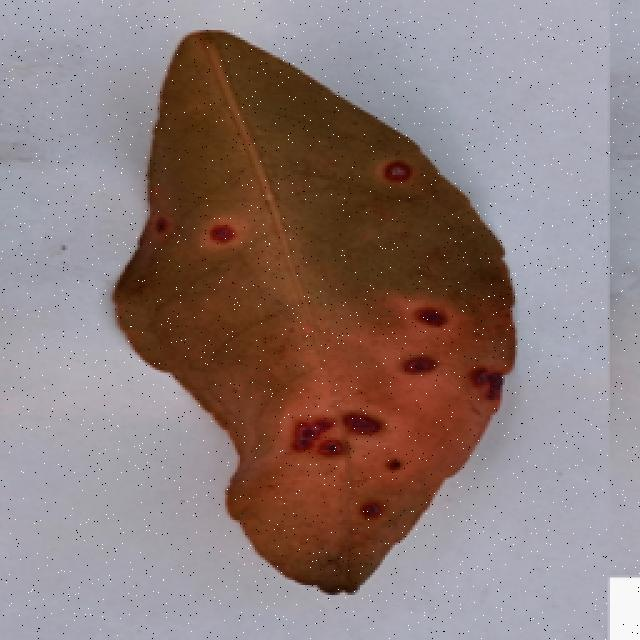canker: (136, 140, 520, 548)
